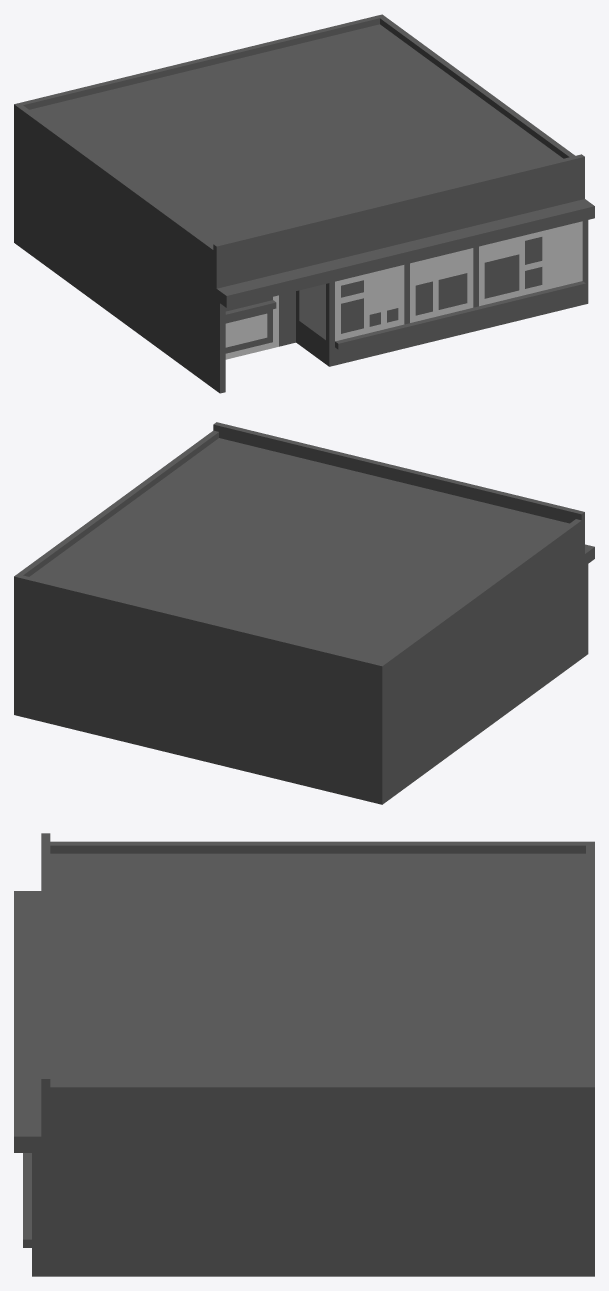
Rendered from bld_store05.obj.
The picture shows the model from 3 angles, top to bottom: view 1: azimuth 30°, elevation 25°; view 2: azimuth 150°, elevation 25°; view 3: azimuth 270°, elevation 25°; orthographic projection. The views are drawn at different scales.
Size of the model in its own units: 64 by 24 by 64.
